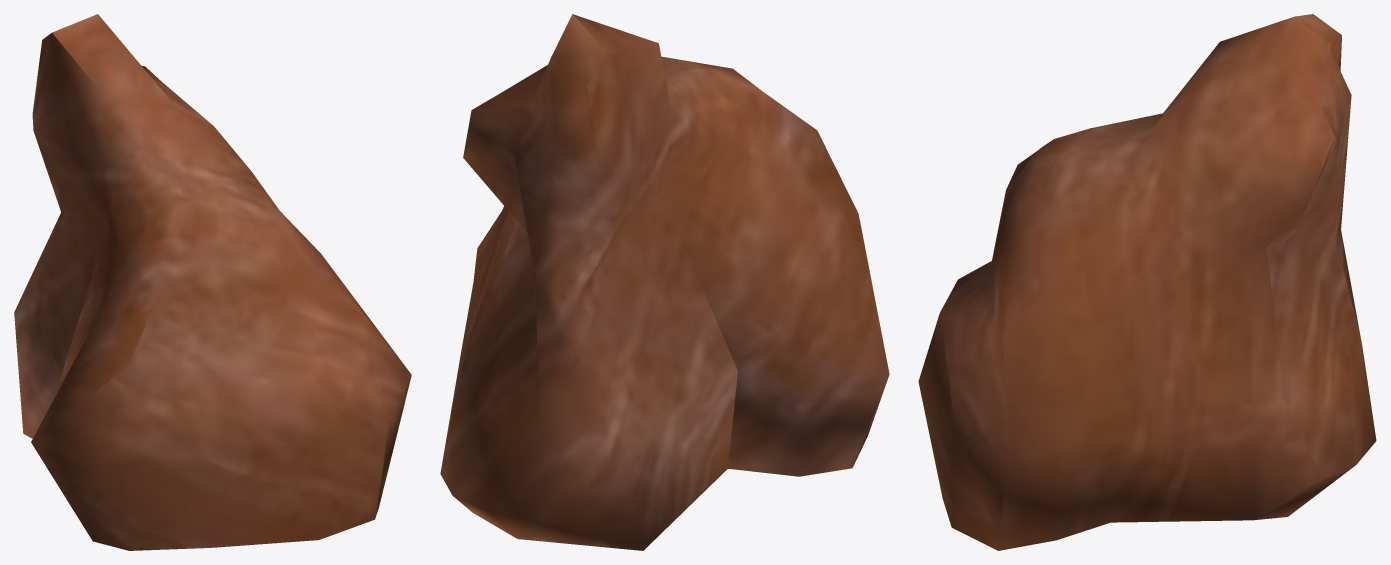
File: Canyon_Rock_Formations_9.glb
3 views of the same model, side by side, from view 1: azimuth 30°, elevation 25°; view 2: azimuth 150°, elevation 25°; view 3: azimuth 270°, elevation 25° (orthographic). The views are drawn at different scales.
Parts seen in each view (by area): view 1: Canyon_Rock_Formations_9_0; view 2: Canyon_Rock_Formations_9_0; view 3: Canyon_Rock_Formations_9_0.
Part boxes in pixels (<box>): Canyon_Rock_Formations_9_0: <box>14,14,411,550</box>; Canyon_Rock_Formations_9_0: <box>440,14,889,550</box>; Canyon_Rock_Formations_9_0: <box>918,14,1376,550</box>.
Bounding box in the file's own units: 7.53 × 9.11 × 8.07.
Materials: 1 (1 with a texture image).
